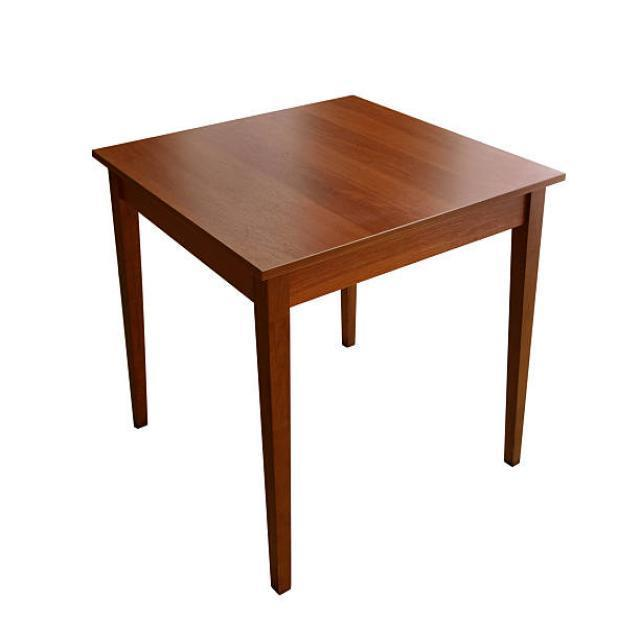table: (91, 92, 566, 594)
